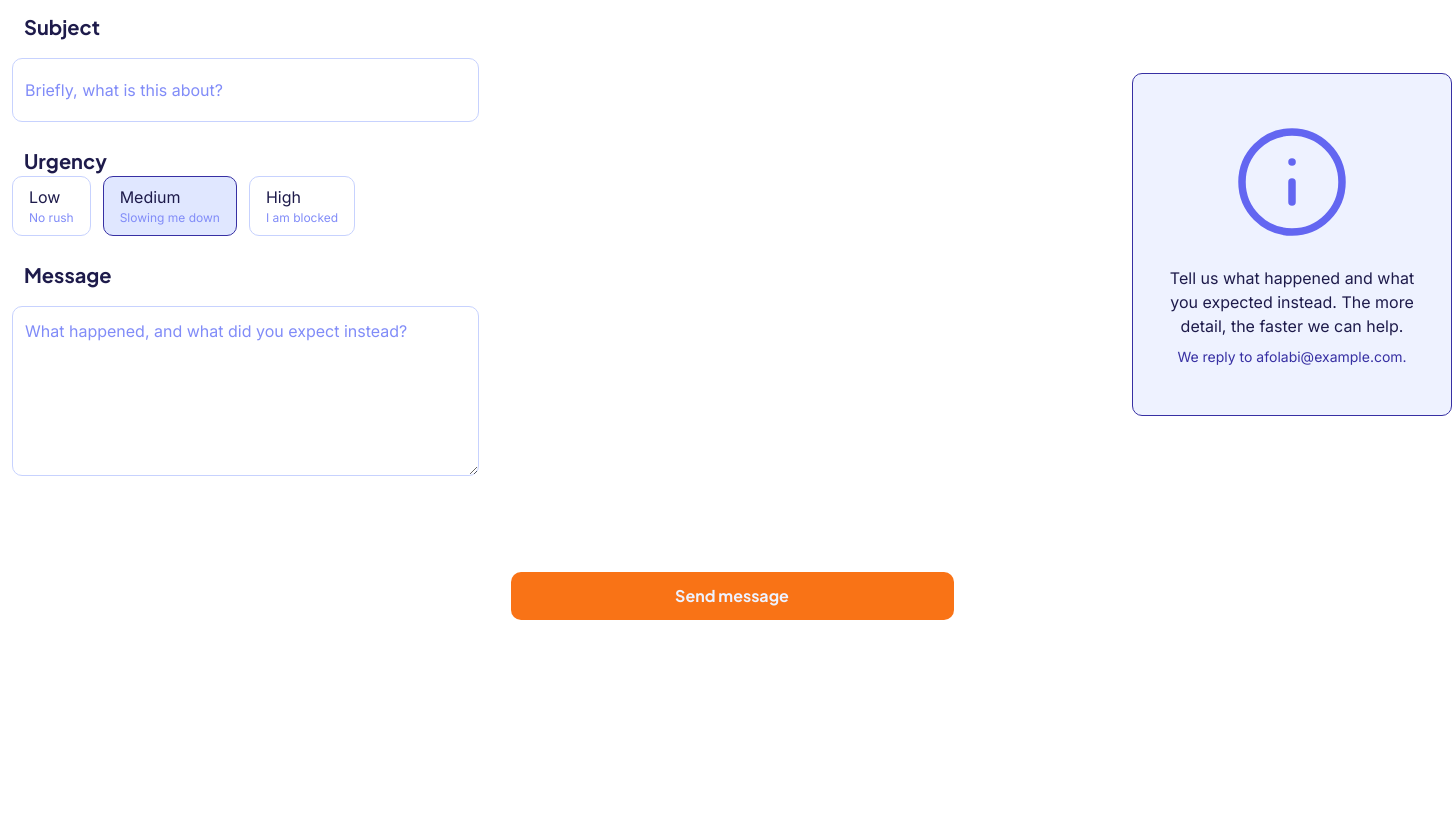
Test case: ContactSupportForm — sending › keeps the form open when the message could not be sent
The image size is (1452, 822).
Type "Cannot open my quiz" into the field labelled "Subject" at (246, 90), box left=12, top=58, right=479, bottom=122
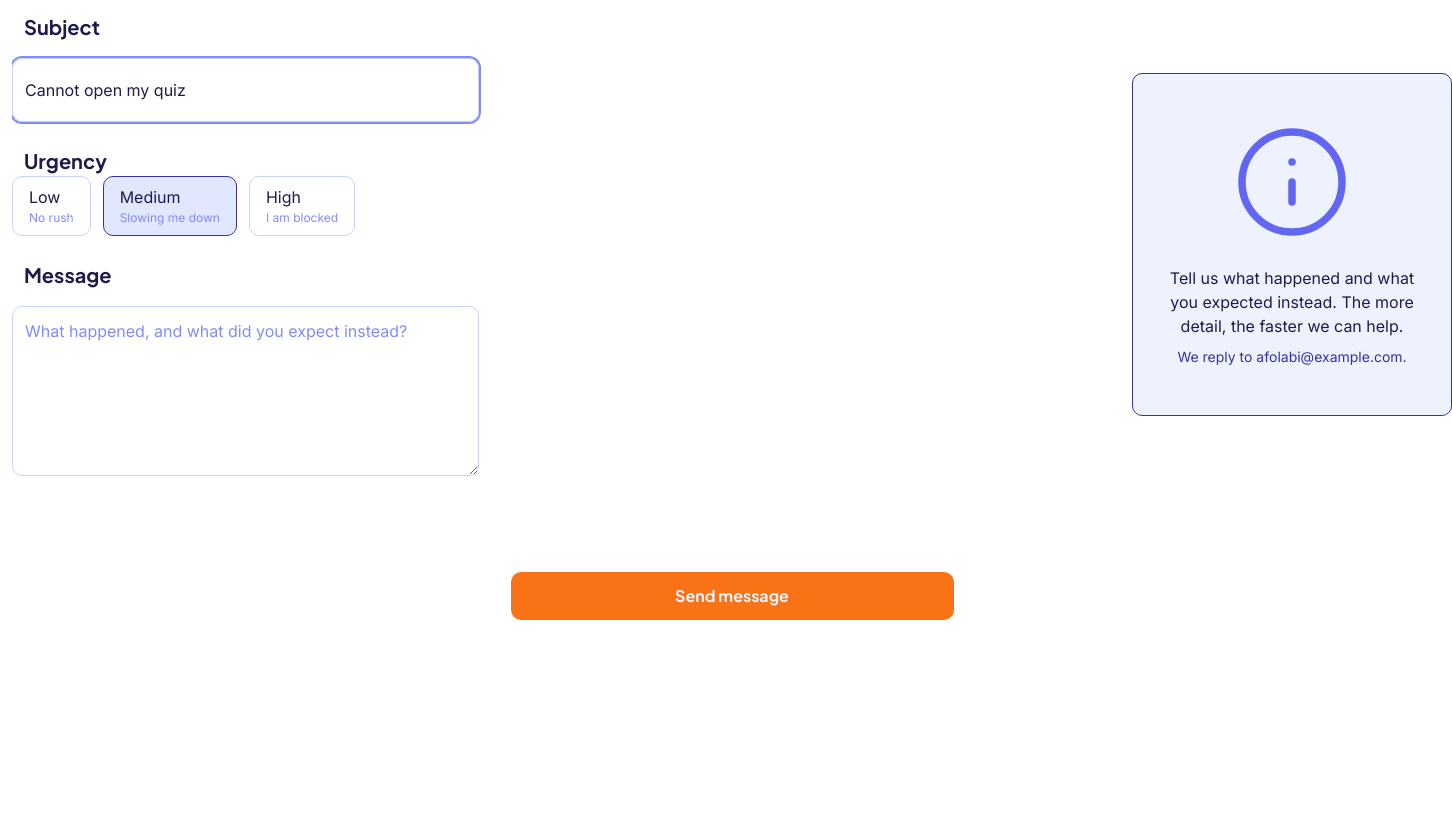
Type "The quiz page has been loading forever since yesterday evening." into the text box labelled "Message" at (246, 391), box left=12, top=306, right=479, bottom=476
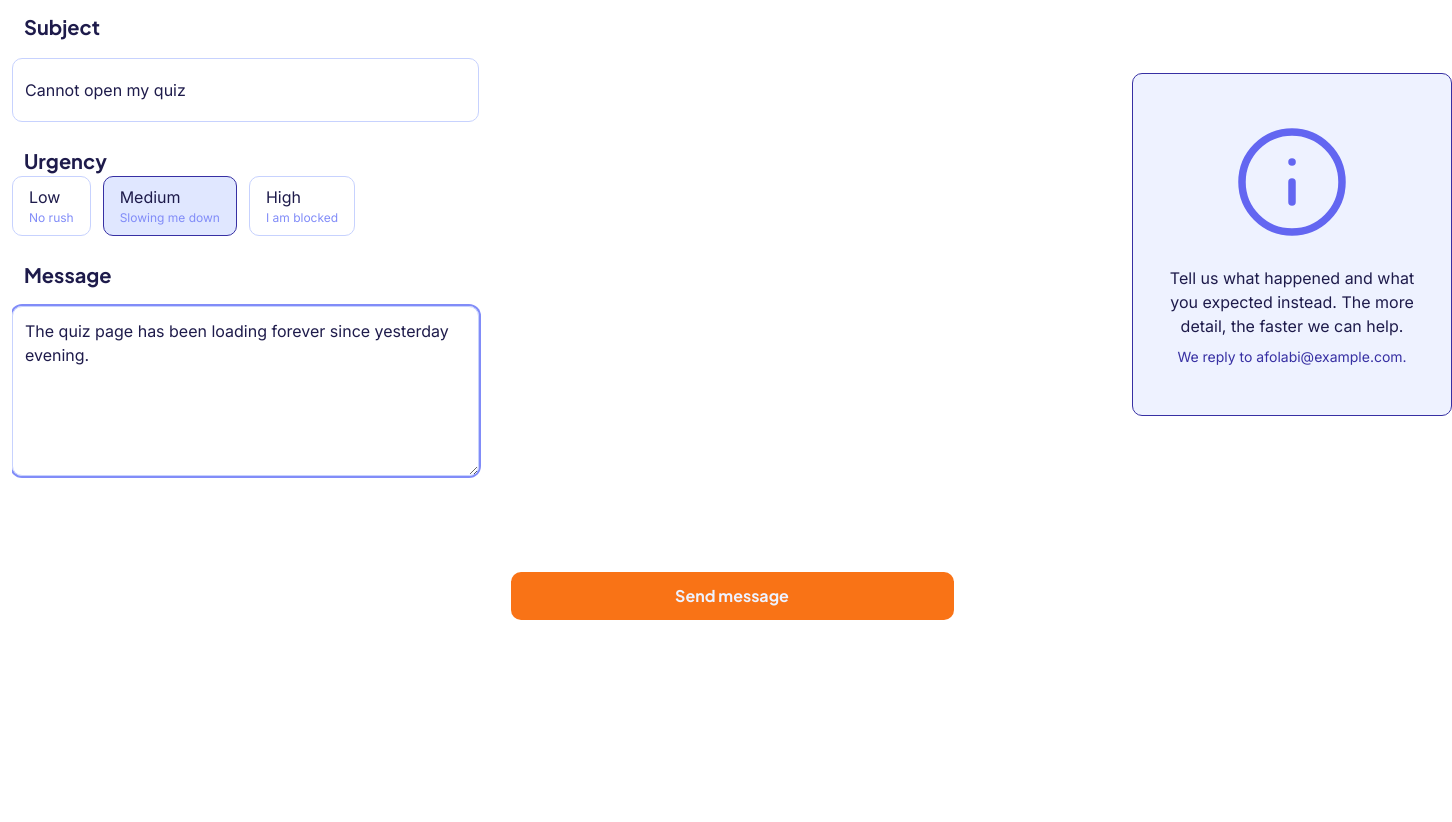
Click the button "Send message" at (732, 596), box left=510, top=572, right=954, bottom=620
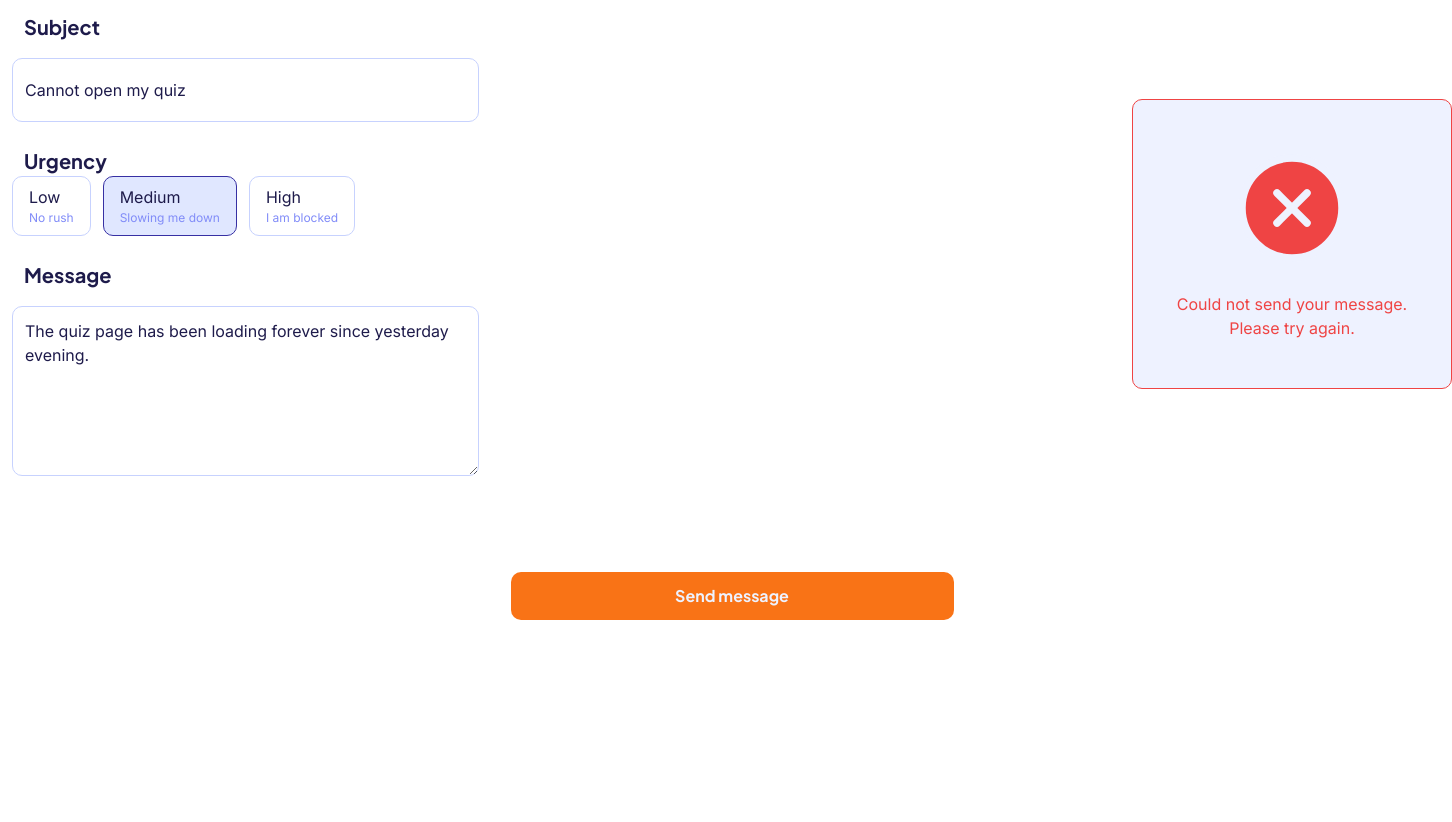
Expected: the message shows "Could not send your message", left=1177, top=294, right=1407, bottom=338
